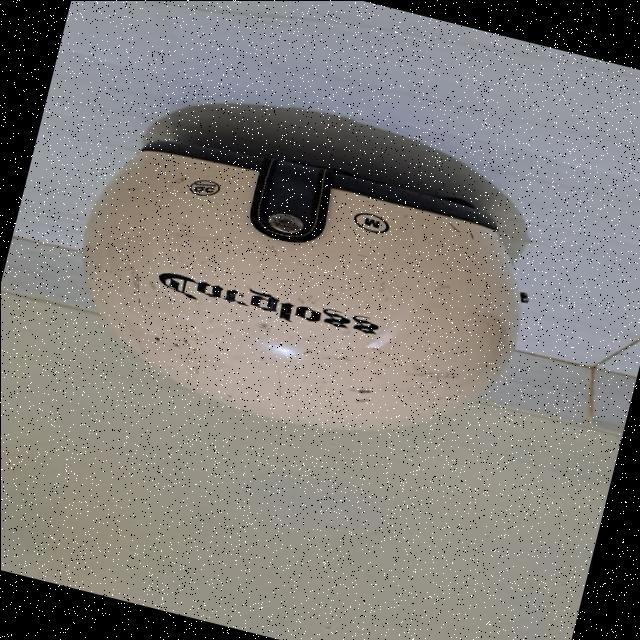Helm: (29, 100, 557, 482)
